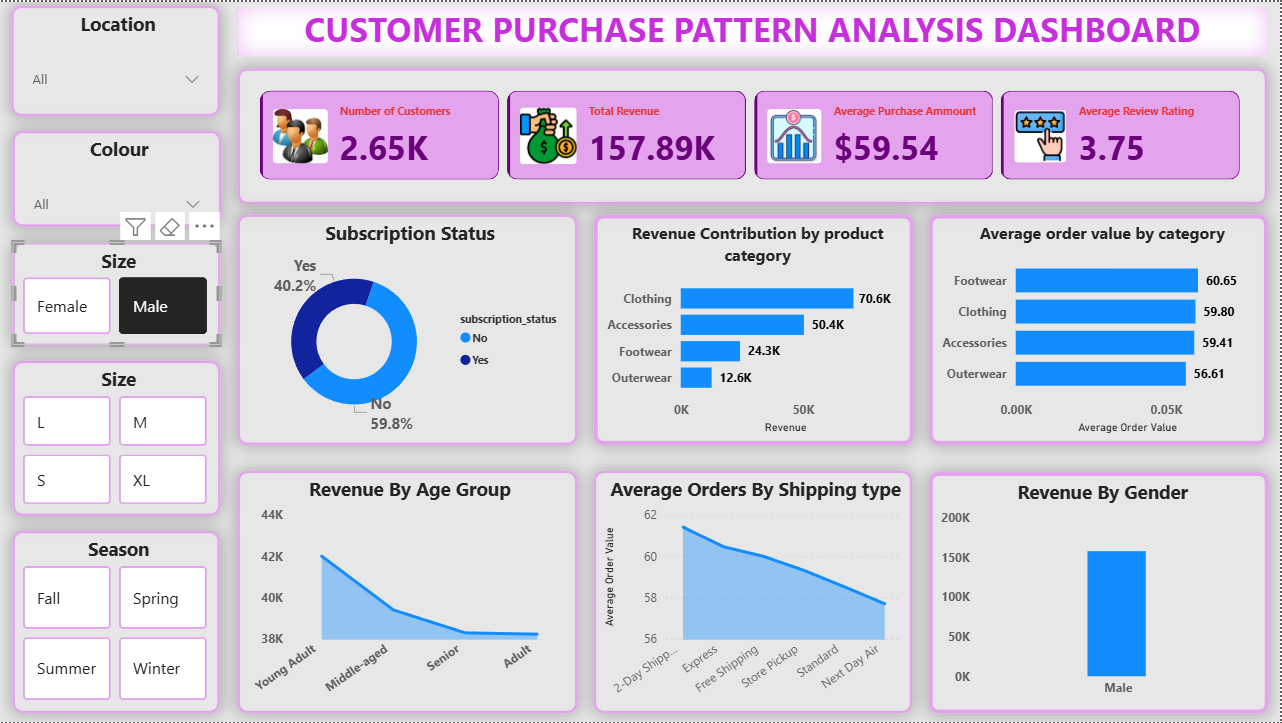

What the dashboard file says about the page in this screenshot:
{"tool":"powerbi","page":{"name":"Page 1","canvas":[1280,720],"ordinal":0},"visuals":[{"type":"cardVisual","fields":{"Data":["cleaned Customer Behaviour Data.Number of Customers","cleaned Customer Behaviour Data.Total Revenue","cleaned Customer Behaviour Data.Average Purchase Ammount","cleaned Customer Behaviour Data.Average Review Rating"]},"box":[238,66,1029.6,135.8],"z":0},{"type":"donutChart","title":"Subscription Status","fields":{"Y":["CountNonNull(cleaned Customer Behaviour Data.customer_id)"],"Category":["cleaned Customer Behaviour Data.subscription_status"]},"box":[237.4,212.7,340.3,230.5],"z":1000},{"type":"barChart","title":"Revenue Contribution by product category","fields":{"Category":["cleaned Customer Behaviour Data.category"],"Y":["Sum(cleaned Customer Behaviour Data.purchase_amount)"]},"box":[594.2,212.7,319.7,230.5],"z":2000},{"type":"clusteredBarChart","title":"Average order value by category","fields":{"Category":["cleaned Customer Behaviour Data.category"],"Y":["cleaned Customer Behaviour Data.Average Order Value"]},"box":[929,212.7,338.9,230.5],"z":3000},{"type":"stackedAreaChart","title":"Revenue By Age Group","fields":{"Category":["cleaned Customer Behaviour Data.age_group"],"Y":["Sum(cleaned Customer Behaviour Data.purchase_amount)"]},"box":[237.5,468.8,340,242.5],"z":4000},{"type":"stackedAreaChart","title":"Average Orders By  Shipping type","fields":{"Y":["cleaned Customer Behaviour Data.Average Order Value"],"Category":["cleaned Customer Behaviour Data.shipping_type"]},"box":[593.8,468.8,318.8,242.5],"z":5000},{"type":"columnChart","title":"Revenue By Gender","fields":{"Category":["cleaned Customer Behaviour Data.gender"],"Y":["Sum(cleaned Customer Behaviour Data.purchase_amount)"]},"box":[928.8,470,340,241.2],"z":6000},{"type":"advancedSlicerVisual","title":"Season","fields":{"Values":["cleaned Customer Behaviour Data.season"]},"box":[12.5,528.8,207.5,182.5],"z":7000},{"type":"advancedSlicerVisual","title":"Size","fields":{"Values":["cleaned Customer Behaviour Data.size"]},"box":[12.4,358.7,207.8,155.1],"z":8000},{"type":"advancedSlicerVisual","title":"Size","fields":{"Values":["cleaned Customer Behaviour Data.gender"]},"box":[12.2,239.9,207.8,103.9],"z":9000},{"type":"slicer","title":"Colour","fields":{"Values":["cleaned Customer Behaviour Data.color"]},"box":[12,129.2,208.6,95.7],"z":10000},{"type":"slicer","title":"Location","fields":{"Values":["cleaned Customer Behaviour Data.location"]},"box":[11.2,3.8,208.8,110],"z":11000},{"type":"textbox","title":"CUSTOMER PURCHASE PATTERN ANALYSIS DASHBOARD","box":[237.1,4.3,1030,50],"z":12000}]}

Visuals, with their boxes in screenshot pixels (x1, y1, x2, y2), scaled from the page's 1280x720 canvas onto the 1282x723 screenshot:
cardVisual - cleaned Customer Behaviour Data.Number of Customers x cleaned Customer Behaviour Data.Total Revenue: [left=238, top=66, right=1270, bottom=203]
"Subscription Status" donutChart: [left=238, top=214, right=579, bottom=445]
"Revenue Contribution by product category" barChart: [left=595, top=214, right=915, bottom=445]
"Average order value by category" clusteredBarChart: [left=930, top=214, right=1270, bottom=445]
"Revenue By Age Group" stackedAreaChart: [left=238, top=471, right=578, bottom=714]
"Average Orders By  Shipping type" stackedAreaChart: [left=595, top=471, right=914, bottom=714]
"Revenue By Gender" columnChart: [left=930, top=472, right=1271, bottom=714]
"Season" advancedSlicerVisual: [left=13, top=531, right=220, bottom=714]
"Size" advancedSlicerVisual: [left=12, top=360, right=221, bottom=516]
"Size" advancedSlicerVisual: [left=12, top=241, right=220, bottom=345]
"Colour" slicer: [left=12, top=130, right=221, bottom=226]
"Location" slicer: [left=11, top=4, right=220, bottom=114]
"CUSTOMER PURCHASE PATTERN ANALYSIS DASHBOARD" textbox: [left=237, top=4, right=1269, bottom=55]
